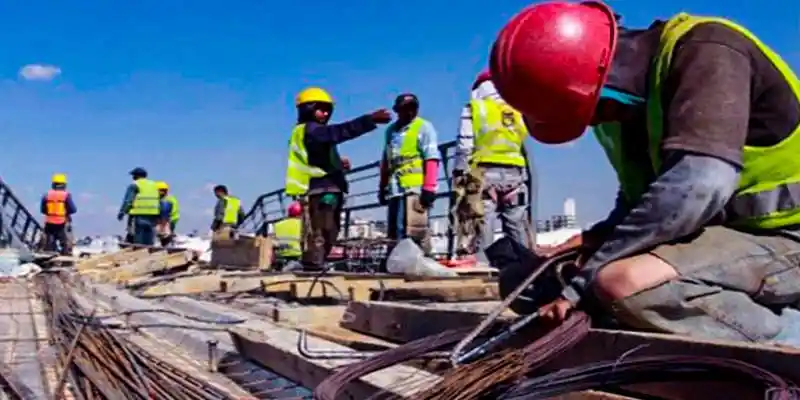Casco de seguridad: (489, 0, 617, 143), (295, 87, 333, 105), (51, 173, 66, 183)
